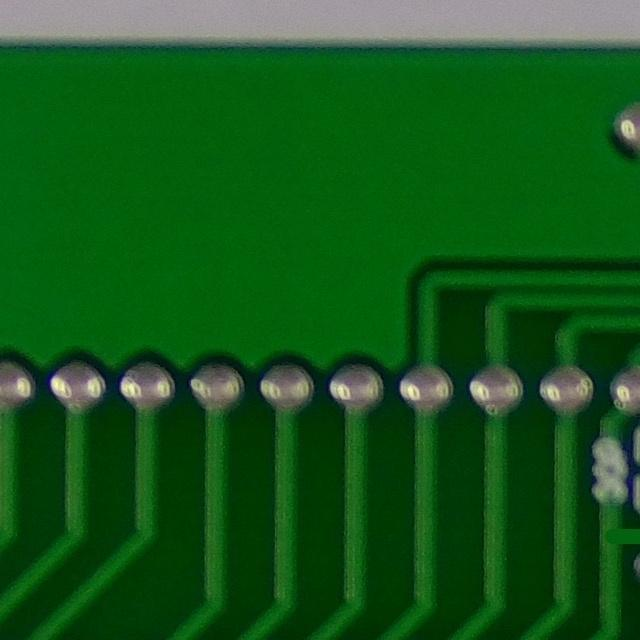short: (591, 502, 640, 566)
